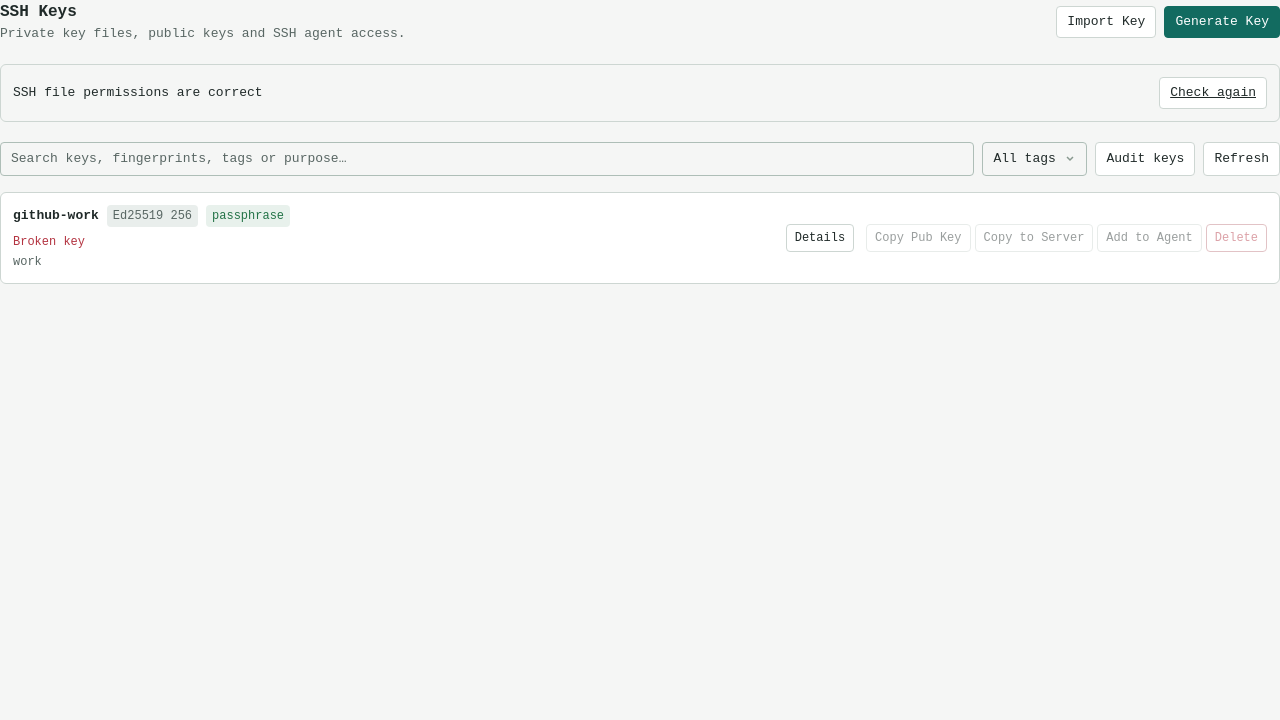
Test: key details, annotations and audit › can inspect malformed keys while annotation writes remain disabled
Click the button "Details": click(820, 238) [786, 224, 854, 252]
(page scrolled)
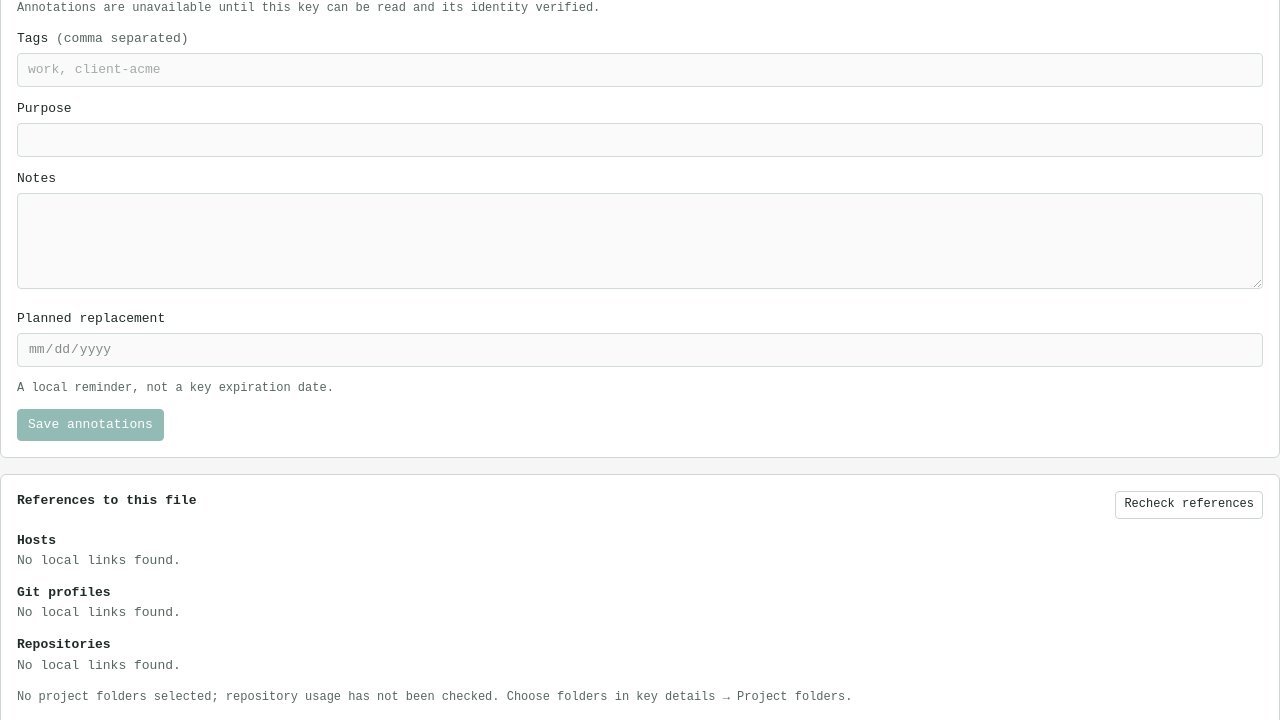
Now the text "Annotations are unavailable until" is shown, box [17, 1, 600, 15]
Now the button "Save annotations" is disabled, box [17, 409, 164, 441]
